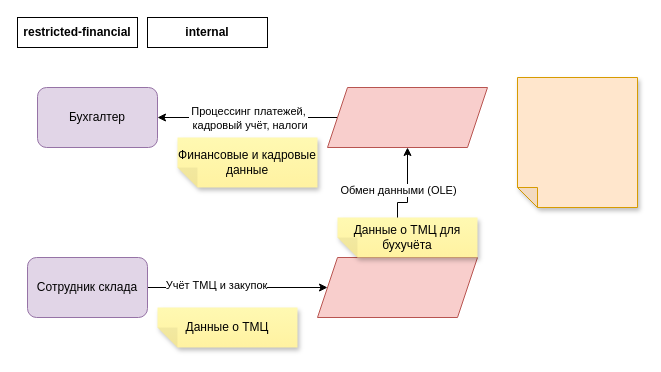
The diagram is 661 pixels wide and 372 high, and some of its shapes have lost their labels. The shapes that lost their labels are listed below. From the top down, each one's centre as x and y in pixels, then its label:
(x=407, y=117): 1С:Бухгалтерия предприятия
(x=578, y=143): Доступ к данным согласно ролям Логирование действий
(x=397, y=287): 1С:Торговля и склад
